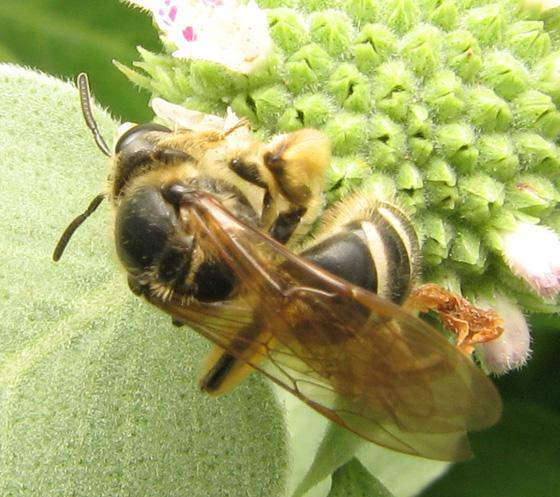Lasioglossum: (65, 63, 517, 450)
